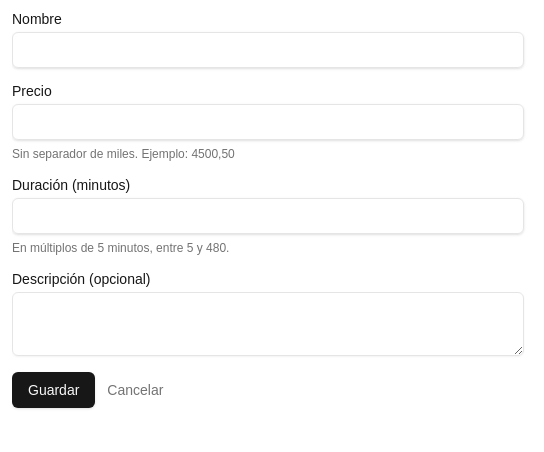
Test: ServiceForm — field errors and focus › should_render_the_description_error_on_its_own_control
The image size is (544, 452).
Type "Corte Clásico" into the field labelled "Nombre" at {"x": 268, "y": 50}, box [12,32,524,68]
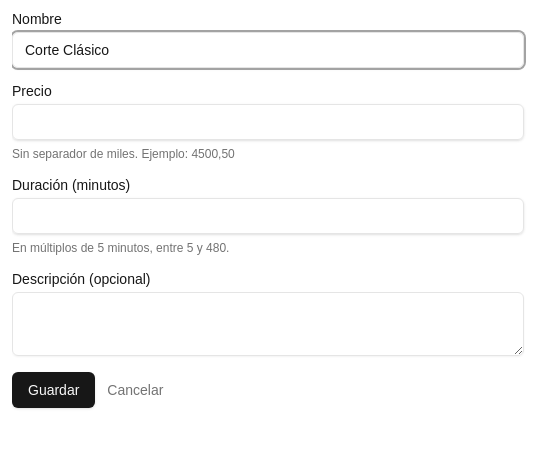
Type "4500,50" into the field labelled "Precio" at {"x": 268, "y": 122}, box [12,104,524,140]
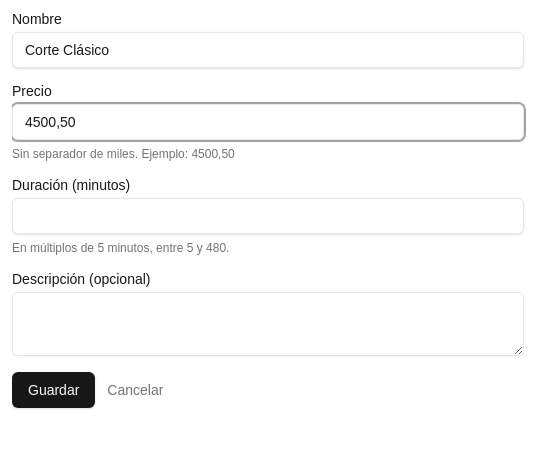
Type "30" into the field labelled "Duración (minutos)" at {"x": 268, "y": 216}, box [12,198,524,234]
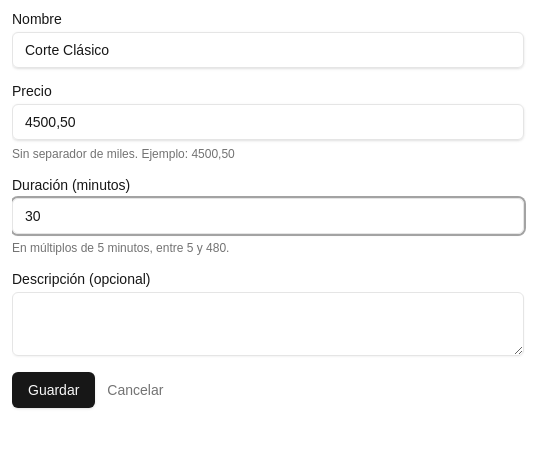
Type "Corte con máquina y tijera" into the text box labelled "Descripción (opcional)" at {"x": 268, "y": 324}, box [12,292,524,356]
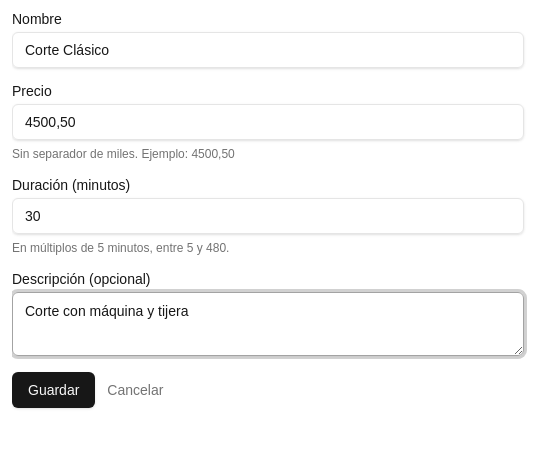
Click the button "Guardar" at {"x": 54, "y": 390}, box [12,372,95,408]
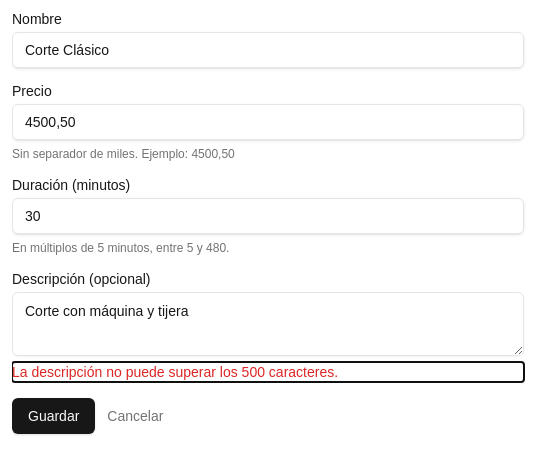
Now the message reads "La descripción no puede superar los 500 caracteres.", box [12,364,338,380]
